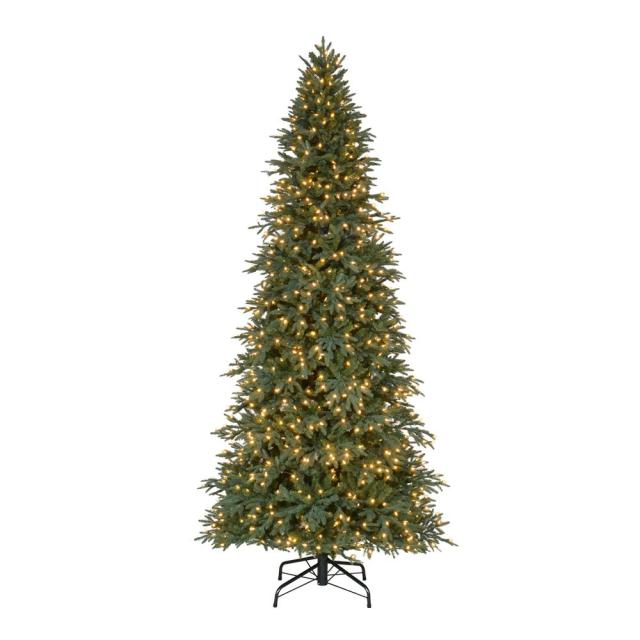Christmas-tree: (152, 32, 499, 570)
